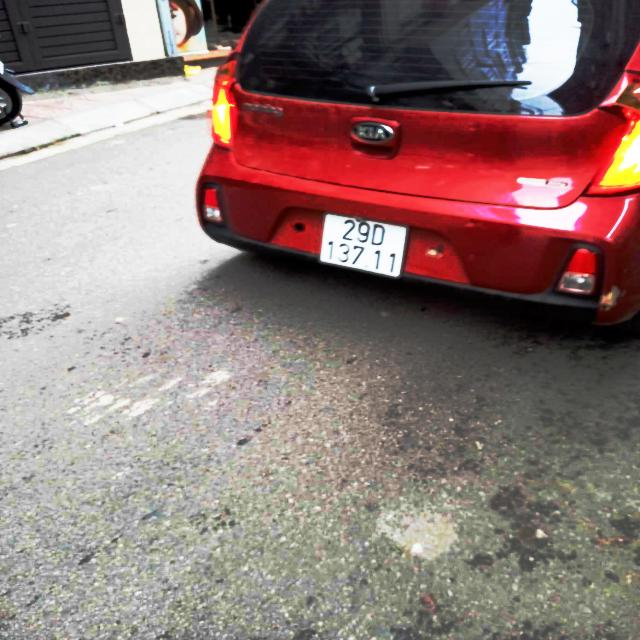license_plate: (318, 213, 411, 279)
